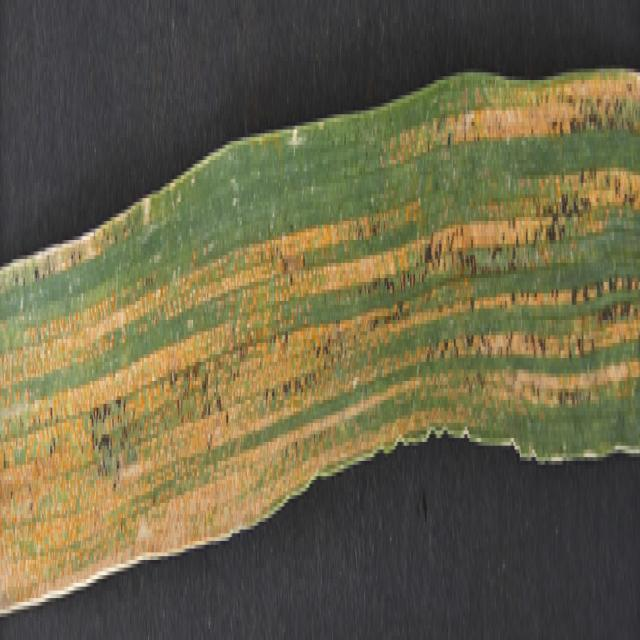leaf rust: (1, 84, 638, 621)
